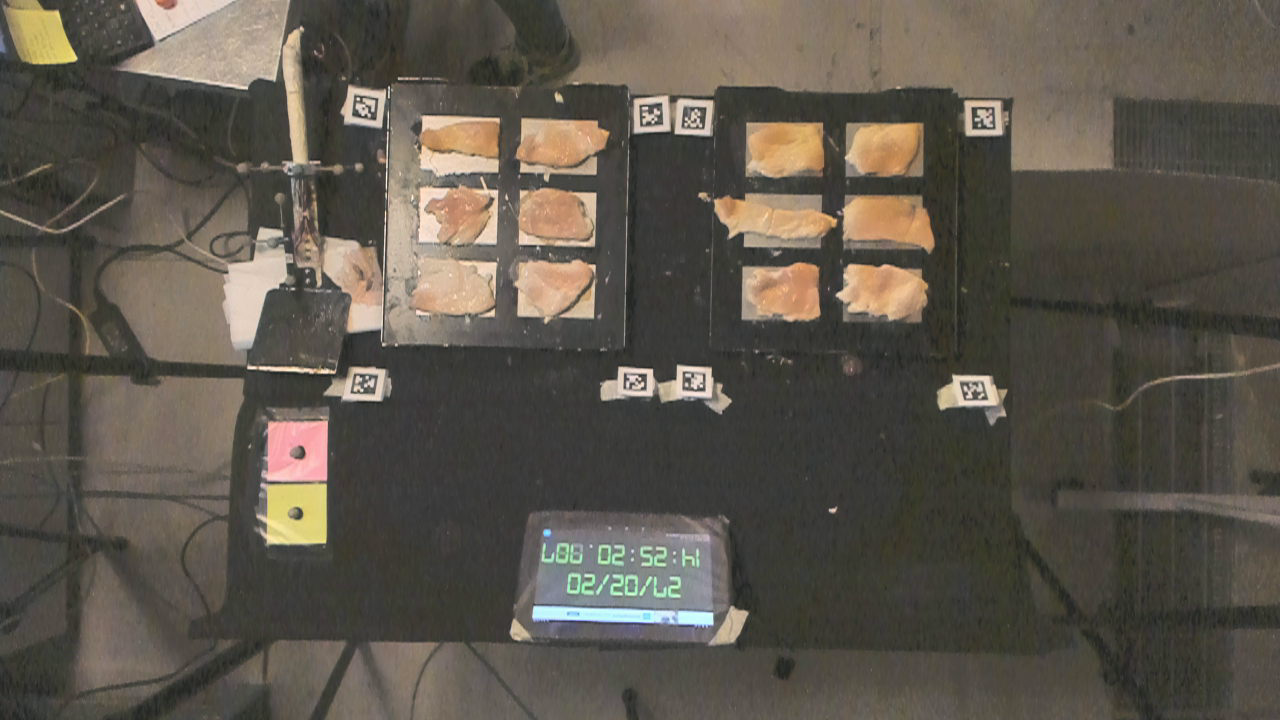chicken: (714, 193, 835, 245), (839, 259, 935, 322), (407, 255, 498, 321), (844, 116, 928, 182), (844, 198, 937, 254), (509, 256, 594, 317), (742, 263, 821, 328), (428, 180, 498, 251), (749, 115, 825, 180), (516, 185, 596, 242), (516, 122, 609, 170), (421, 115, 510, 160)
marker: (268, 419, 329, 481)
